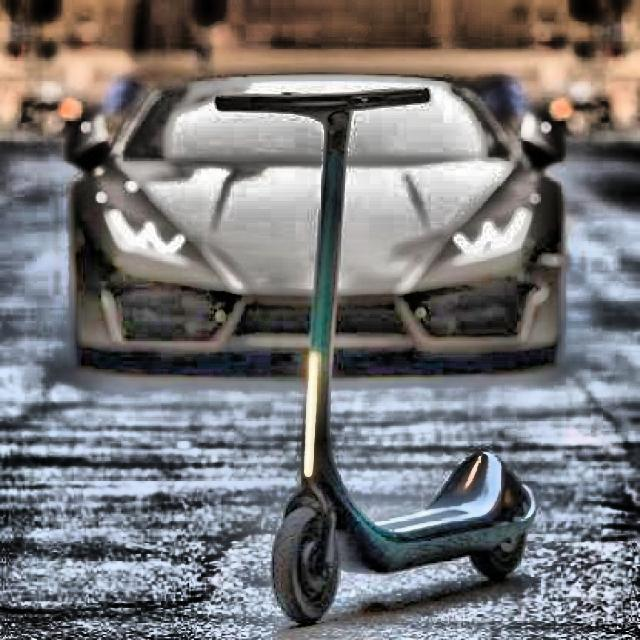bike: (266, 64, 542, 627)
car: (59, 70, 568, 377)
